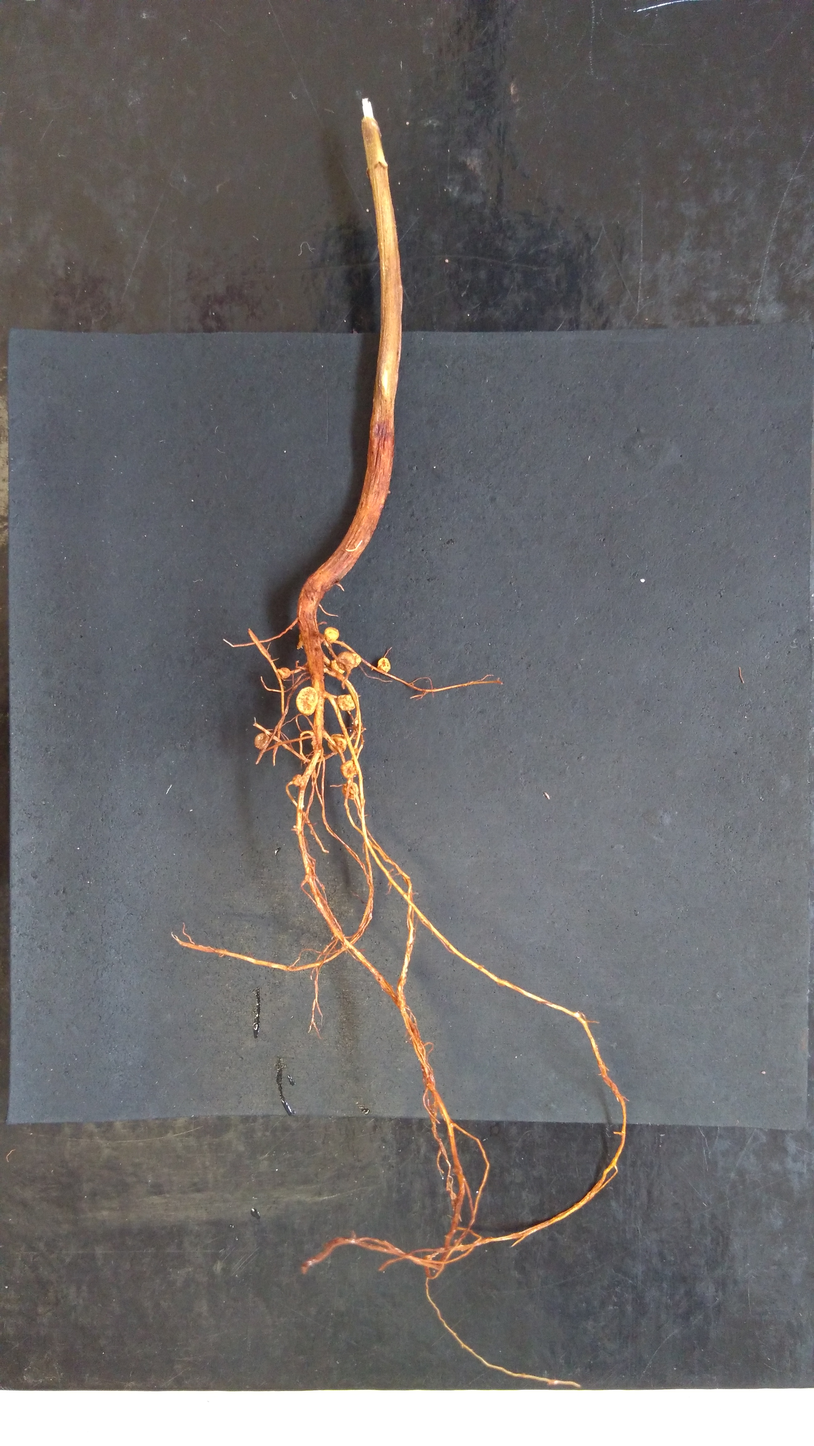nodule: (330, 650, 363, 675), (294, 686, 320, 717), (326, 732, 348, 755), (337, 757, 359, 779), (341, 780, 361, 802), (336, 651, 356, 672), (335, 693, 357, 712), (375, 655, 394, 675), (253, 731, 271, 751), (323, 627, 342, 645), (275, 667, 292, 680), (290, 773, 303, 789)
